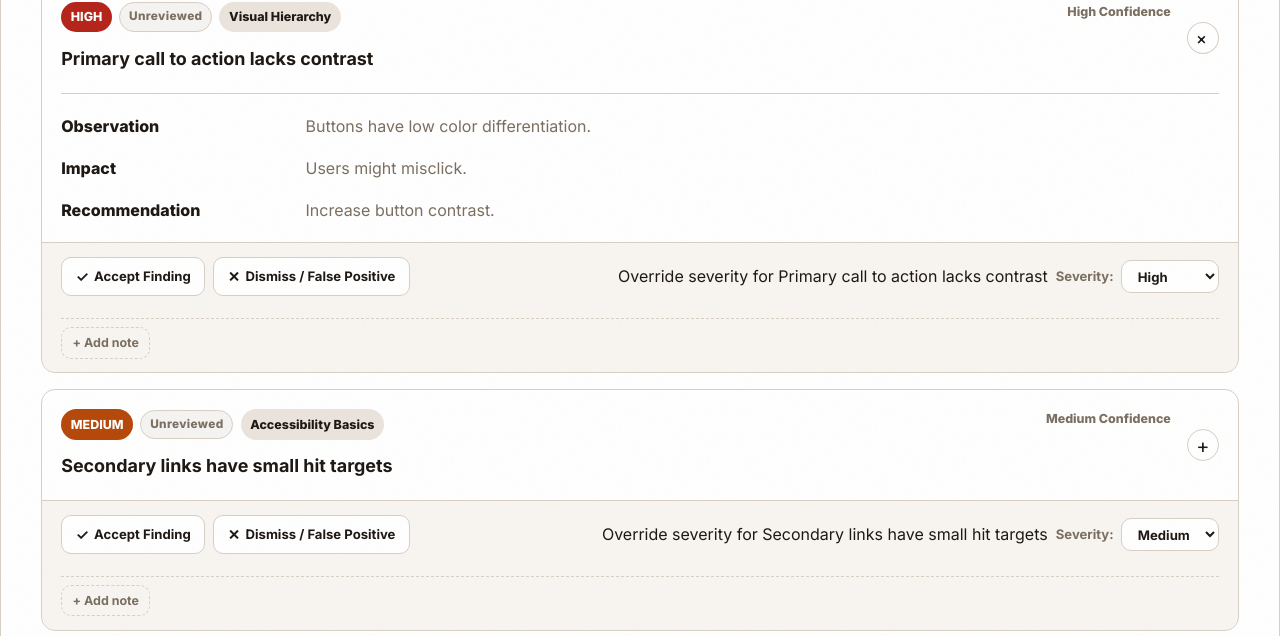
Test: AuditResults HITL Review Experience › flips reviewStatus to completed when all items are triaged
(page scrolled)
Click the button "✓ Accept Finding" below "Observation" at (133, 277), box [61,257,205,296]
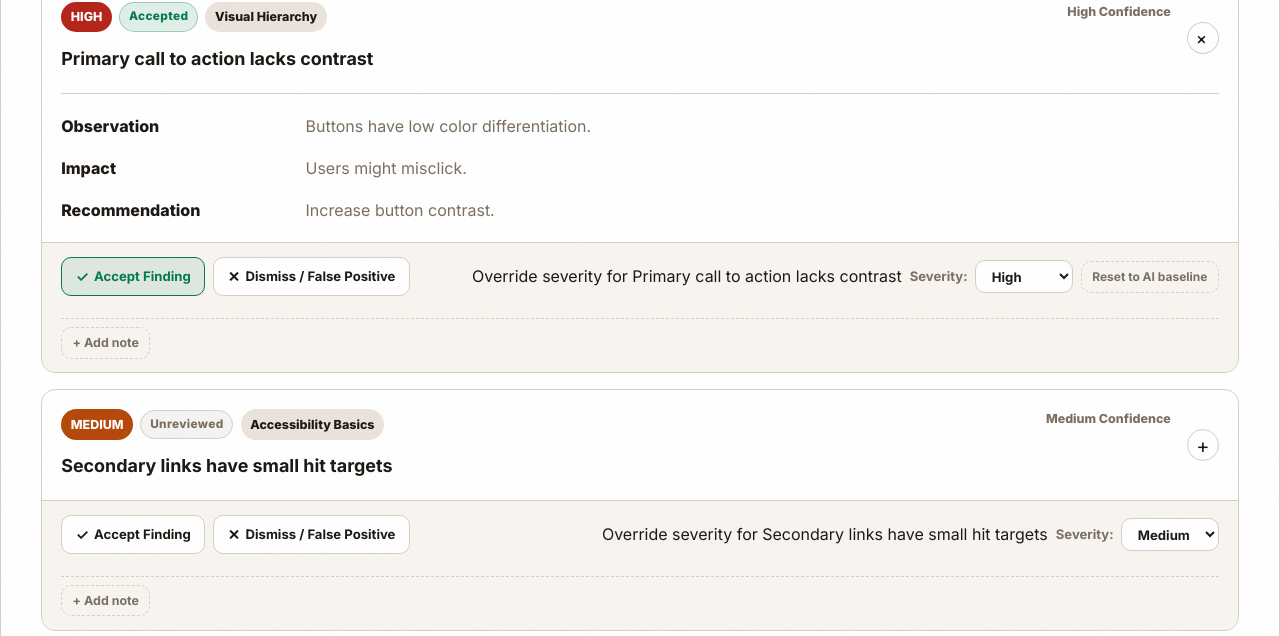
Click the button "✓ Accept Finding" below "Unreviewed" at (133, 534), box [61,515,205,554]
(page scrolled)
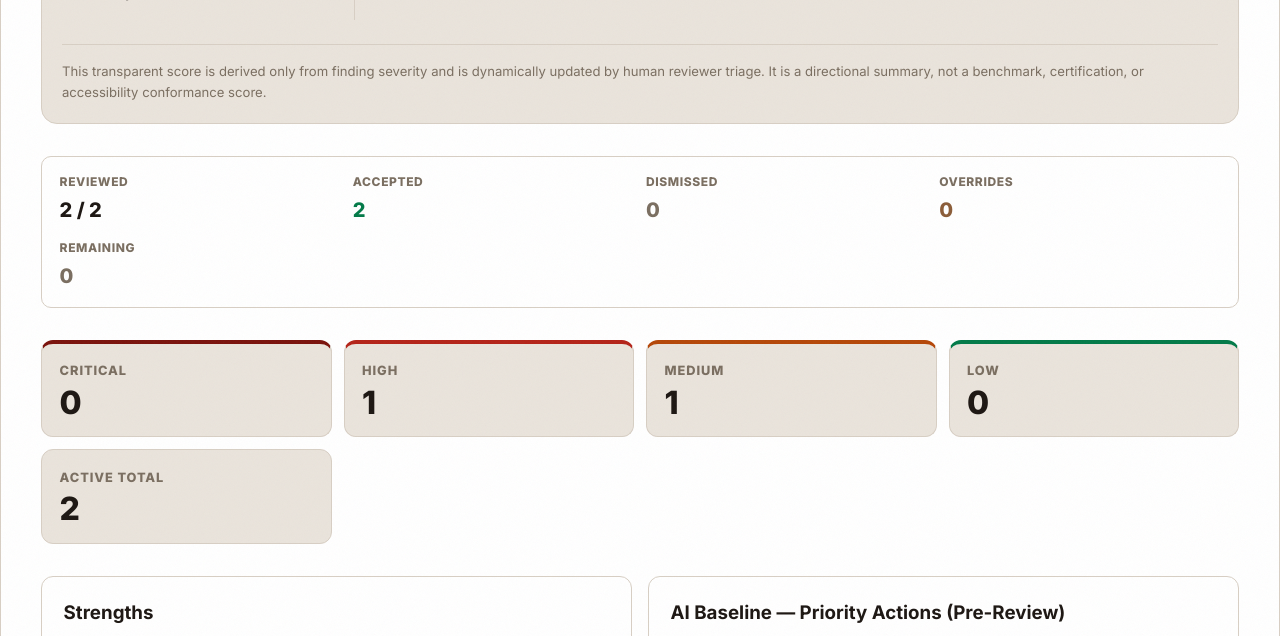
Expected: the text "2 / 2" is shown, [60,198,102,222]
Expected: the text with class "hitl-remaining" reads "0", [60,264,73,288]
